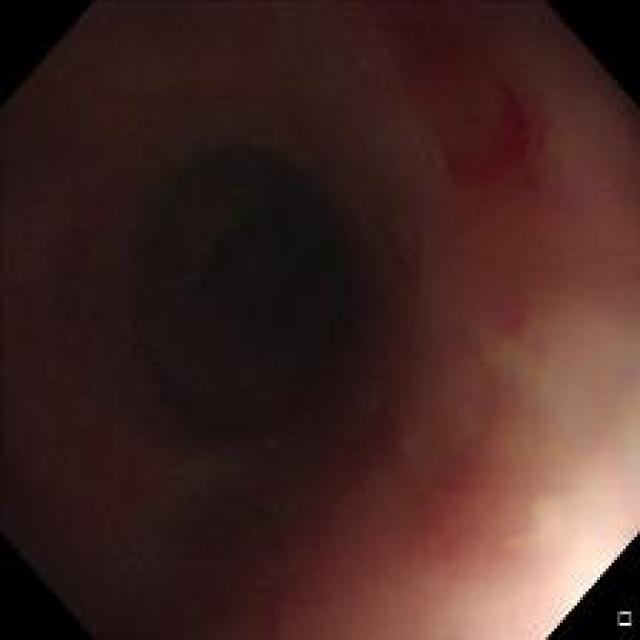contrast: (5, 36, 522, 612)
saturation: (554, 524, 600, 605)
